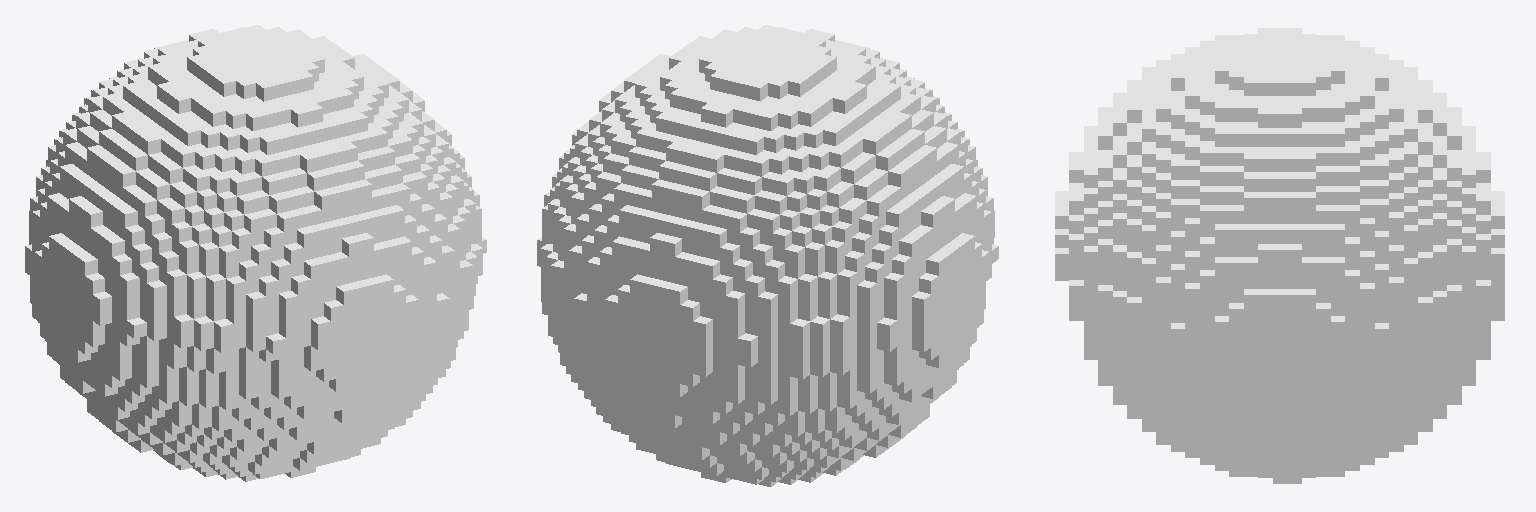
Rendered from voxel_sphere.obj.
3 views of the same model, side by side, from view 1: azimuth 30°, elevation 25°; view 2: azimuth 150°, elevation 25°; view 3: azimuth 270°, elevation 25° (orthographic).
Parts seen in each view (by area): view 1: object 1; view 2: object 1; view 3: object 1.
Part boxes in pixels (x1,y1,x2,y2): object 1: (25,25,486,481); object 1: (537,25,998,486); object 1: (1055,28,1504,483).
Size of the model in its own units: 3 by 3 by 3.1.